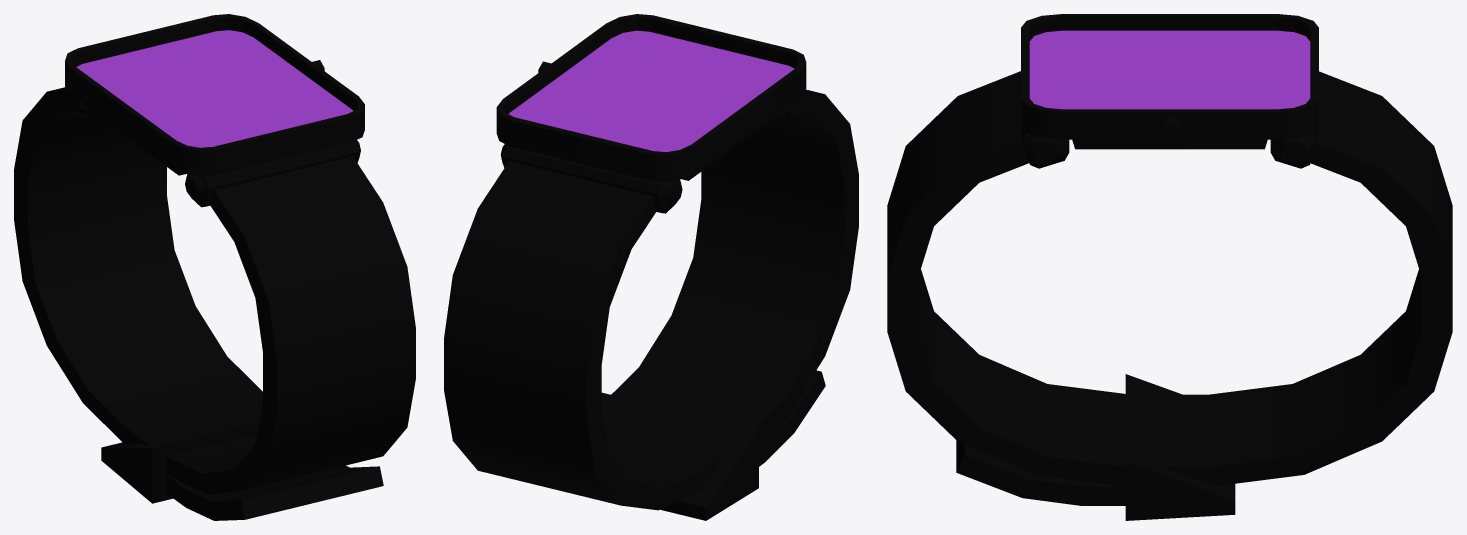
File: SM_Watch.fbx
The picture shows the model from 3 angles, left to right: view 1: azimuth 30°, elevation 25°; view 2: azimuth 150°, elevation 25°; view 3: azimuth 270°, elevation 25°; orthographic projection. The views are drawn at different scales.
Parts seen in each view (by area): view 1: SM_Watch; view 2: SM_Watch; view 3: SM_Watch.
Part boxes in pixels (box(x1,y1,x2,y2)): SM_Watch: box(14, 14, 415, 520); SM_Watch: box(444, 14, 858, 520); SM_Watch: box(887, 14, 1452, 520).
Size of the model in its own units: 5.54 by 12.71 by 10.28.
1 material, 1 textured.
